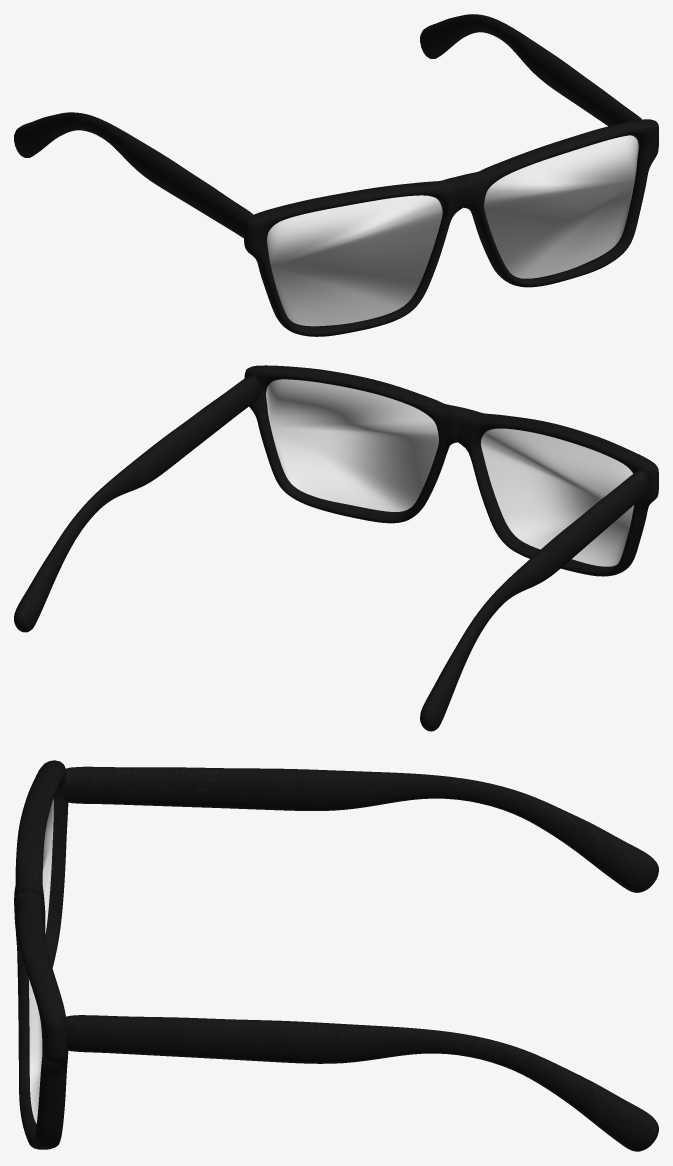
File: Cartoon glasses.fbx
3 views of the same model, one above another, from view 1: azimuth 30°, elevation 25°; view 2: azimuth 150°, elevation 25°; view 3: azimuth 270°, elevation 25° (orthographic). The views are drawn at different scales.
Parts seen in each view (by area): view 1: Base, Temples; view 2: Base, Temples; view 3: Temples, Base.
Part boxes in pixels (x1,y1,x2,y2): Base: [244, 119, 658, 336]; Temples: [14, 14, 642, 238]; Base: [244, 365, 658, 576]; Temples: [14, 375, 648, 731]; Temples: [63, 766, 658, 1151]; Base: [14, 760, 68, 1149].
Size of the model in its own units: 371 by 115 by 375.
